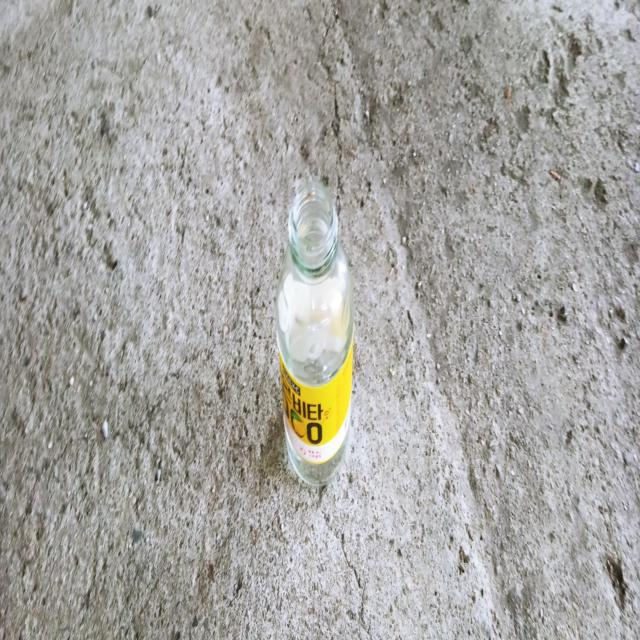glass: (275, 178, 354, 485)
